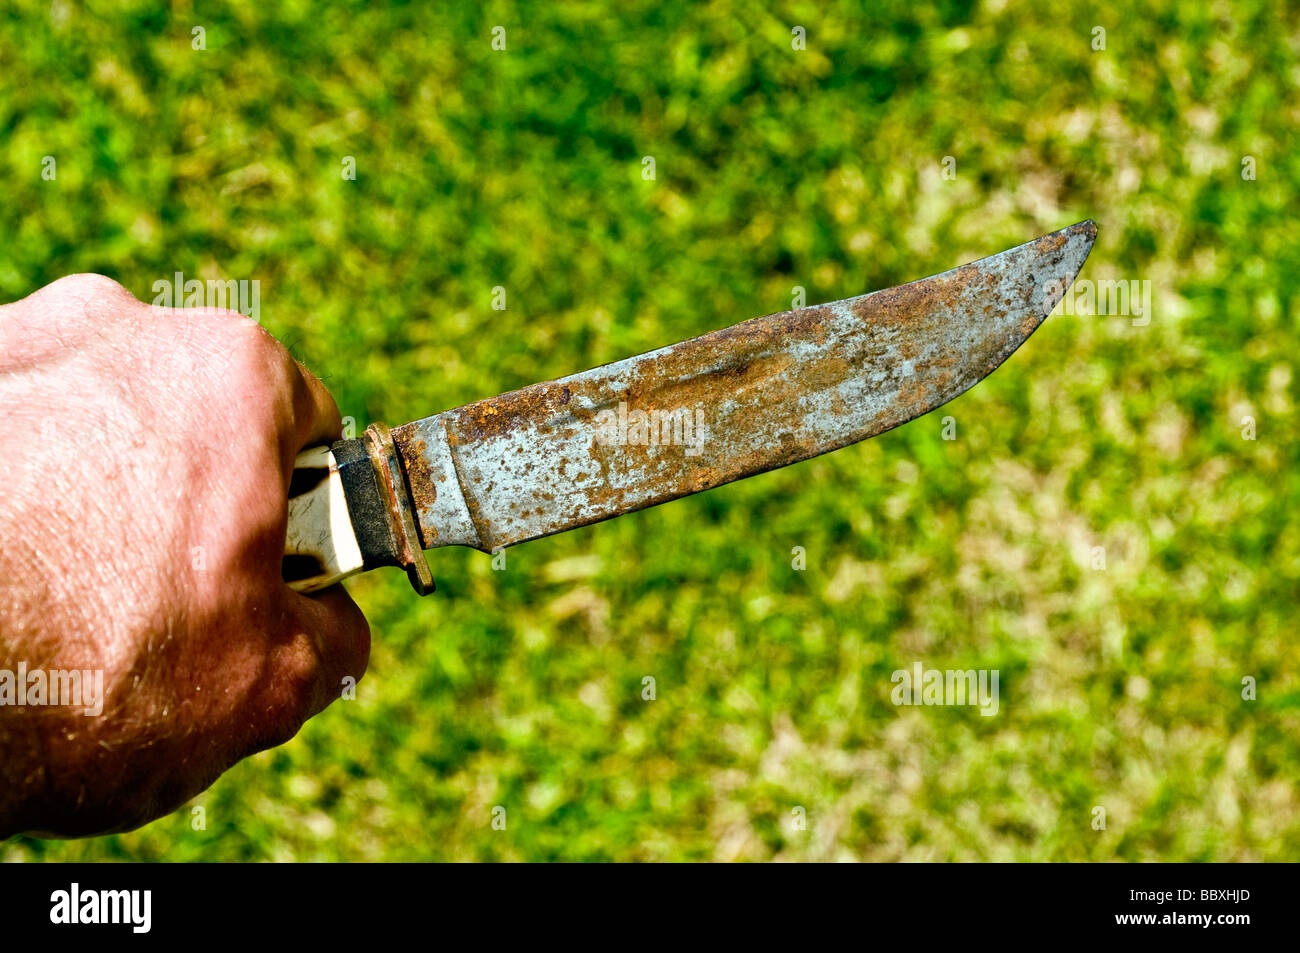knife: (283, 214, 1103, 598)
